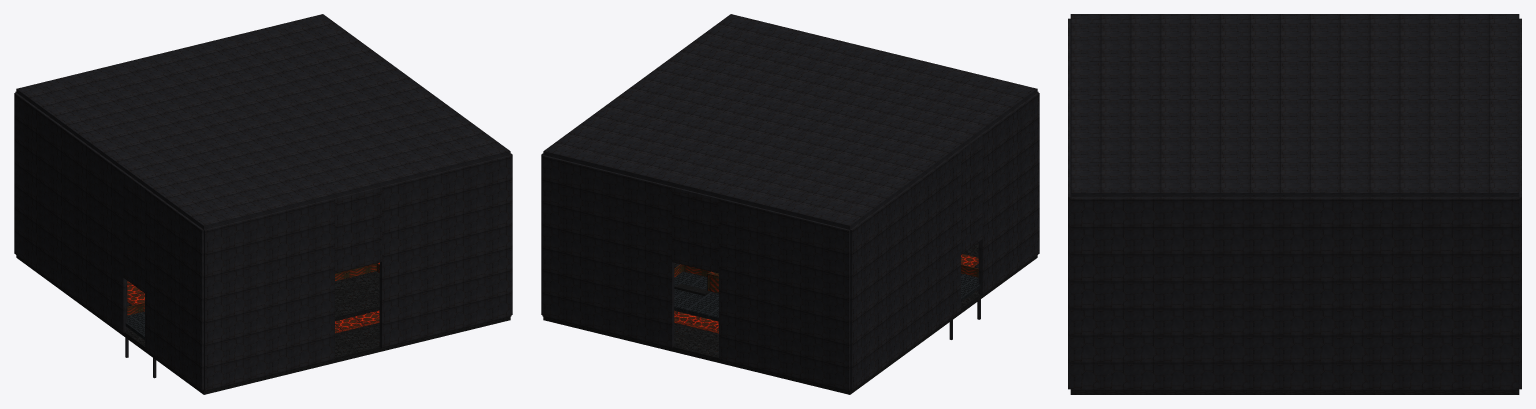
Rendered from rdx_magma_foundry_undercroft.glb.
3 renders of one model, left to right at view 1: azimuth 30°, elevation 25°; view 2: azimuth 150°, elevation 25°; view 3: azimuth 270°, elevation 25°, orthographic. The views are drawn at different scales.
Visible parts, largest first — view 1: SHELL_CEILING, SHELL_WALL_SOUTH_RIGHT, SHELL_WALL_SOUTH_0_LEFT, SHELL_WALL_WEST_0_LEFT, SHELL_WALL_WEST_RIGHT, SHELL_DOOR_HEADER_SOUTH_0, SHELL_FLOOR_BOTTOM, SHELL_DOOR_HEADER_WEST_0, WALK_ENTRY_FOUNDRY_DECK, HAZARD_MAGMA_BASIN; view 2: SHELL_CEILING, SHELL_WALL_NORTH_RIGHT, SHELL_WALL_NORTH_0_LEFT, SHELL_WALL_WEST_0_LEFT, SHELL_WALL_WEST_RIGHT, SHELL_DOOR_HEADER_NORTH_0, SHELL_FLOOR_BOTTOM, SHELL_DOOR_HEADER_WEST_0, WALK_NORTH_CONTROL_DECK, HAZARD_MAGMA_BASIN; view 3: SHELL_WALL_EAST_RIGHT, SHELL_CEILING, SHELL_FLOOR_BOTTOM, SHELL_WALL_NORTH_RIGHT, SHELL_WALL_SOUTH_RIGHT.
Part boxes in pixels (x1,y1,x2,y2): SHELL_CEILING: [16, 14, 510, 229]; SHELL_WALL_SOUTH_RIGHT: [379, 155, 511, 347]; SHELL_WALL_SOUTH_0_LEFT: [204, 198, 334, 390]; SHELL_WALL_WEST_0_LEFT: [14, 92, 127, 332]; SHELL_WALL_WEST_RIGHT: [145, 188, 203, 390]; SHELL_DOOR_HEADER_SOUTH_0: [334, 186, 381, 273]; SHELL_FLOOR_BOTTOM: [16, 255, 510, 394]; SHELL_DOOR_HEADER_WEST_0: [123, 172, 146, 292]; WALK_ENTRY_FOUNDRY_DECK: [335, 271, 379, 321]; HAZARD_MAGMA_BASIN: [127, 262, 379, 333]; SHELL_CEILING: [543, 14, 1037, 229]; SHELL_WALL_NORTH_RIGHT: [542, 155, 674, 347]; SHELL_WALL_NORTH_0_LEFT: [719, 198, 849, 390]; SHELL_WALL_WEST_0_LEFT: [850, 150, 960, 390]; SHELL_WALL_WEST_RIGHT: [978, 92, 1039, 294]; SHELL_DOOR_HEADER_NORTH_0: [672, 186, 719, 273]; SHELL_FLOOR_BOTTOM: [543, 242, 1037, 394]; SHELL_DOOR_HEADER_WEST_0: [959, 134, 982, 254]; WALK_NORTH_CONTROL_DECK: [674, 271, 718, 321]; HAZARD_MAGMA_BASIN: [674, 254, 978, 333]; SHELL_WALL_EAST_RIGHT: [1070, 197, 1519, 390]; SHELL_CEILING: [1070, 14, 1519, 197]; SHELL_FLOOR_BOTTOM: [1070, 390, 1519, 394]; SHELL_WALL_NORTH_RIGHT: [1519, 121, 1521, 389]; SHELL_WALL_SOUTH_RIGHT: [1068, 121, 1070, 389].
Bounding box in the file's own units: 34.45 × 20.35 × 36.45.
6 materials, 6 textured.
